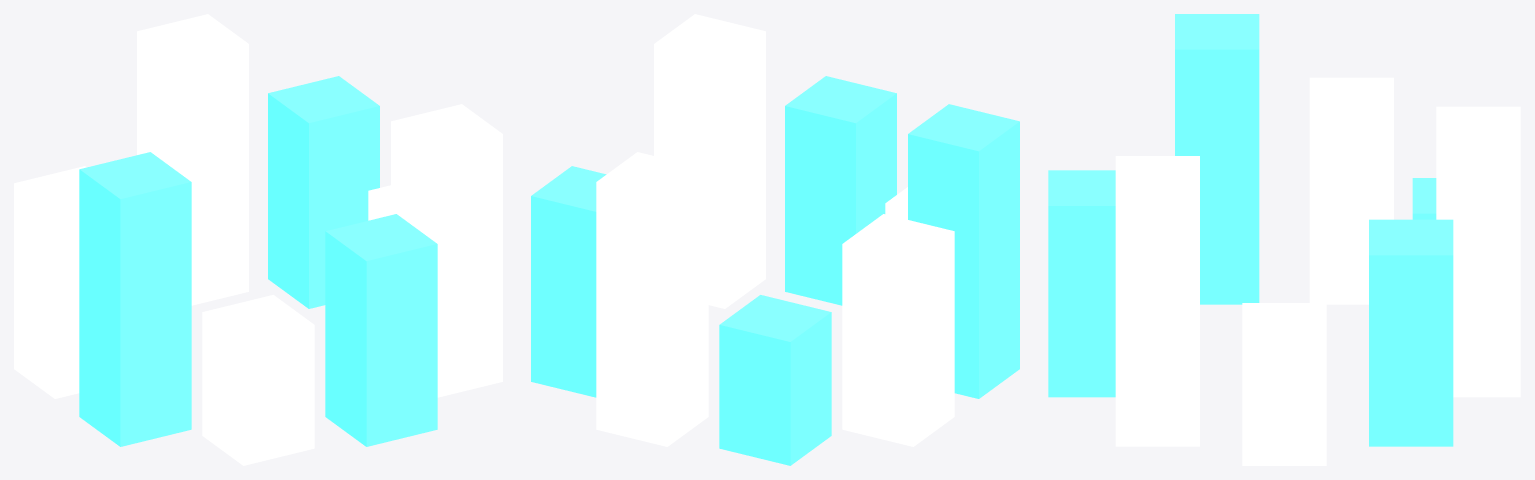
Rendered from FXBlueFlame.fbx.
3 renders of one model, left to right at view 1: azimuth 30°, elevation 25°; view 2: azimuth 150°, elevation 25°; view 3: azimuth 270°, elevation 25°, orthographic. The views are drawn at different scales.
Visible parts, largest first — view 1: FX Blue Flame_body_5, FX Blue Flame_body_7, FX Blue Flame_body_2, FX Blue Flame_body_8, FX Blue Flame_body_1, FX Blue Flame_body_6, FX Blue Flame_body_4, FX Blue Flame_body_0; view 2: FX Blue Flame_body_2, FX Blue Flame_body_4, FX Blue Flame_body_8, FX Blue Flame_body_5, FX Blue Flame_body_7, FX Blue Flame_body_3, FX Blue Flame_body_1, FX Blue Flame_body_6; view 3: FX Blue Flame_body_8, FX Blue Flame_body_2, FX Blue Flame_body_5, FX Blue Flame_body_1, FX Blue Flame_body_4, FX Blue Flame_body_7, FX Blue Flame_body_0, FX Blue Flame_body_3.
Boxes of the visible parts, x1=… form: FX Blue Flame_body_5: x1=79, y1=152, x2=191, y2=446; FX Blue Flame_body_7: x1=325, y1=214, x2=437, y2=446; FX Blue Flame_body_2: x1=137, y1=14, x2=248, y2=305; FX Blue Flame_body_8: x1=391, y1=104, x2=502, y2=397; FX Blue Flame_body_1: x1=268, y1=76, x2=379, y2=308; FX Blue Flame_body_6: x1=202, y1=295, x2=314, y2=465; FX Blue Flame_body_4: x1=14, y1=166, x2=86, y2=398; FX Blue Flame_body_0: x1=368, y1=185, x2=390, y2=220; FX Blue Flame_body_2: x1=596, y1=152, x2=708, y2=446; FX Blue Flame_body_4: x1=842, y1=214, x2=954, y2=446; FX Blue Flame_body_8: x1=654, y1=14, x2=765, y2=308; FX Blue Flame_body_5: x1=908, y1=104, x2=1019, y2=398; FX Blue Flame_body_7: x1=785, y1=76, x2=896, y2=305; FX Blue Flame_body_3: x1=719, y1=295, x2=831, y2=465; FX Blue Flame_body_1: x1=531, y1=166, x2=606, y2=397; FX Blue Flame_body_6: x1=885, y1=187, x2=907, y2=219; FX Blue Flame_body_8: x1=1115, y1=156, x2=1199, y2=446; FX Blue Flame_body_2: x1=1436, y1=106, x2=1520, y2=397; FX Blue Flame_body_5: x1=1175, y1=14, x2=1259, y2=304; FX Blue Flame_body_1: x1=1369, y1=219, x2=1453, y2=446; FX Blue Flame_body_4: x1=1309, y1=77, x2=1393, y2=304; FX Blue Flame_body_7: x1=1048, y1=170, x2=1115, y2=397; FX Blue Flame_body_0: x1=1242, y1=303, x2=1326, y2=465; FX Blue Flame_body_3: x1=1412, y1=178, x2=1436, y2=219.
Bounding box in the file's own units: 332 × 200 × 336.
